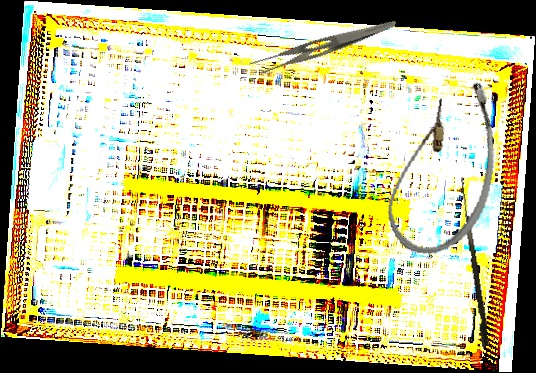Cannula: (381, 70, 508, 264)
Dressing Forceps: (247, 4, 398, 84)
Hook Surgical: (452, 176, 493, 348)
